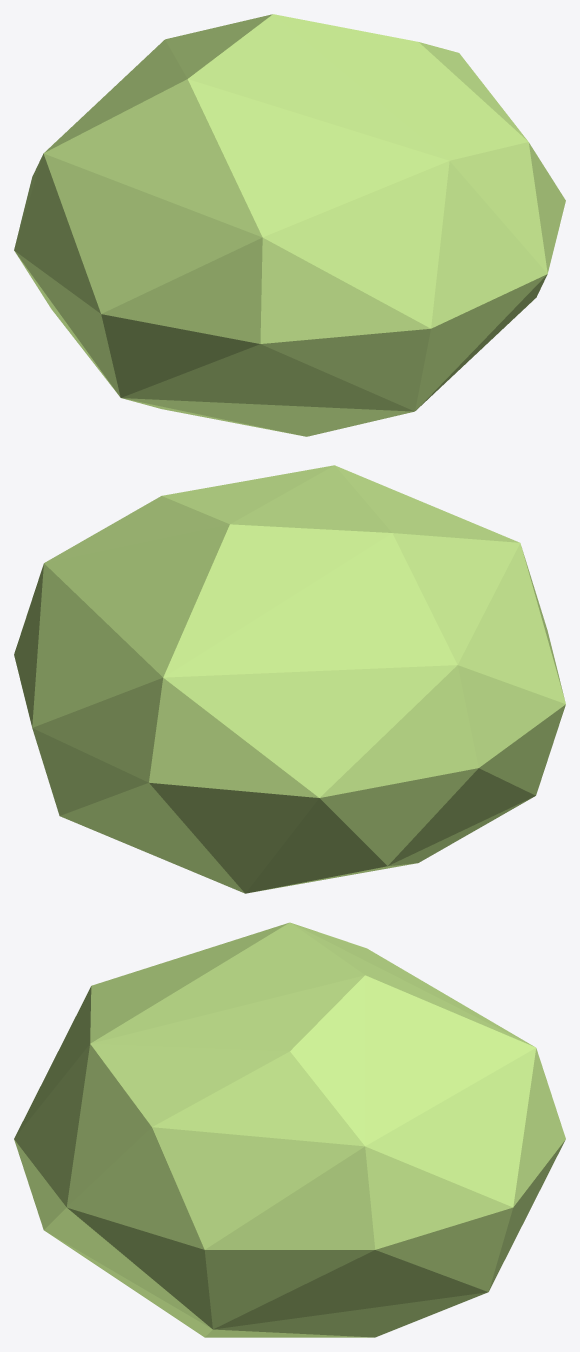
File: Bush_g_m_02.fbx
The picture shows the model from 3 angles, top to bottom: view 1: azimuth 30°, elevation 25°; view 2: azimuth 150°, elevation 25°; view 3: azimuth 270°, elevation 25°; orthographic projection. The views are drawn at different scales.
Visible parts, largest first — view 1: Bush_g_m_02; view 2: Bush_g_m_02; view 3: Bush_g_m_02.
Part boxes in pixels (x1,y1,x2,y2): Bush_g_m_02: (14,14,565,436); Bush_g_m_02: (14,465,565,893); Bush_g_m_02: (14,922,565,1337).
Bounding box in the file's own units: 117 × 85.75 × 123.
